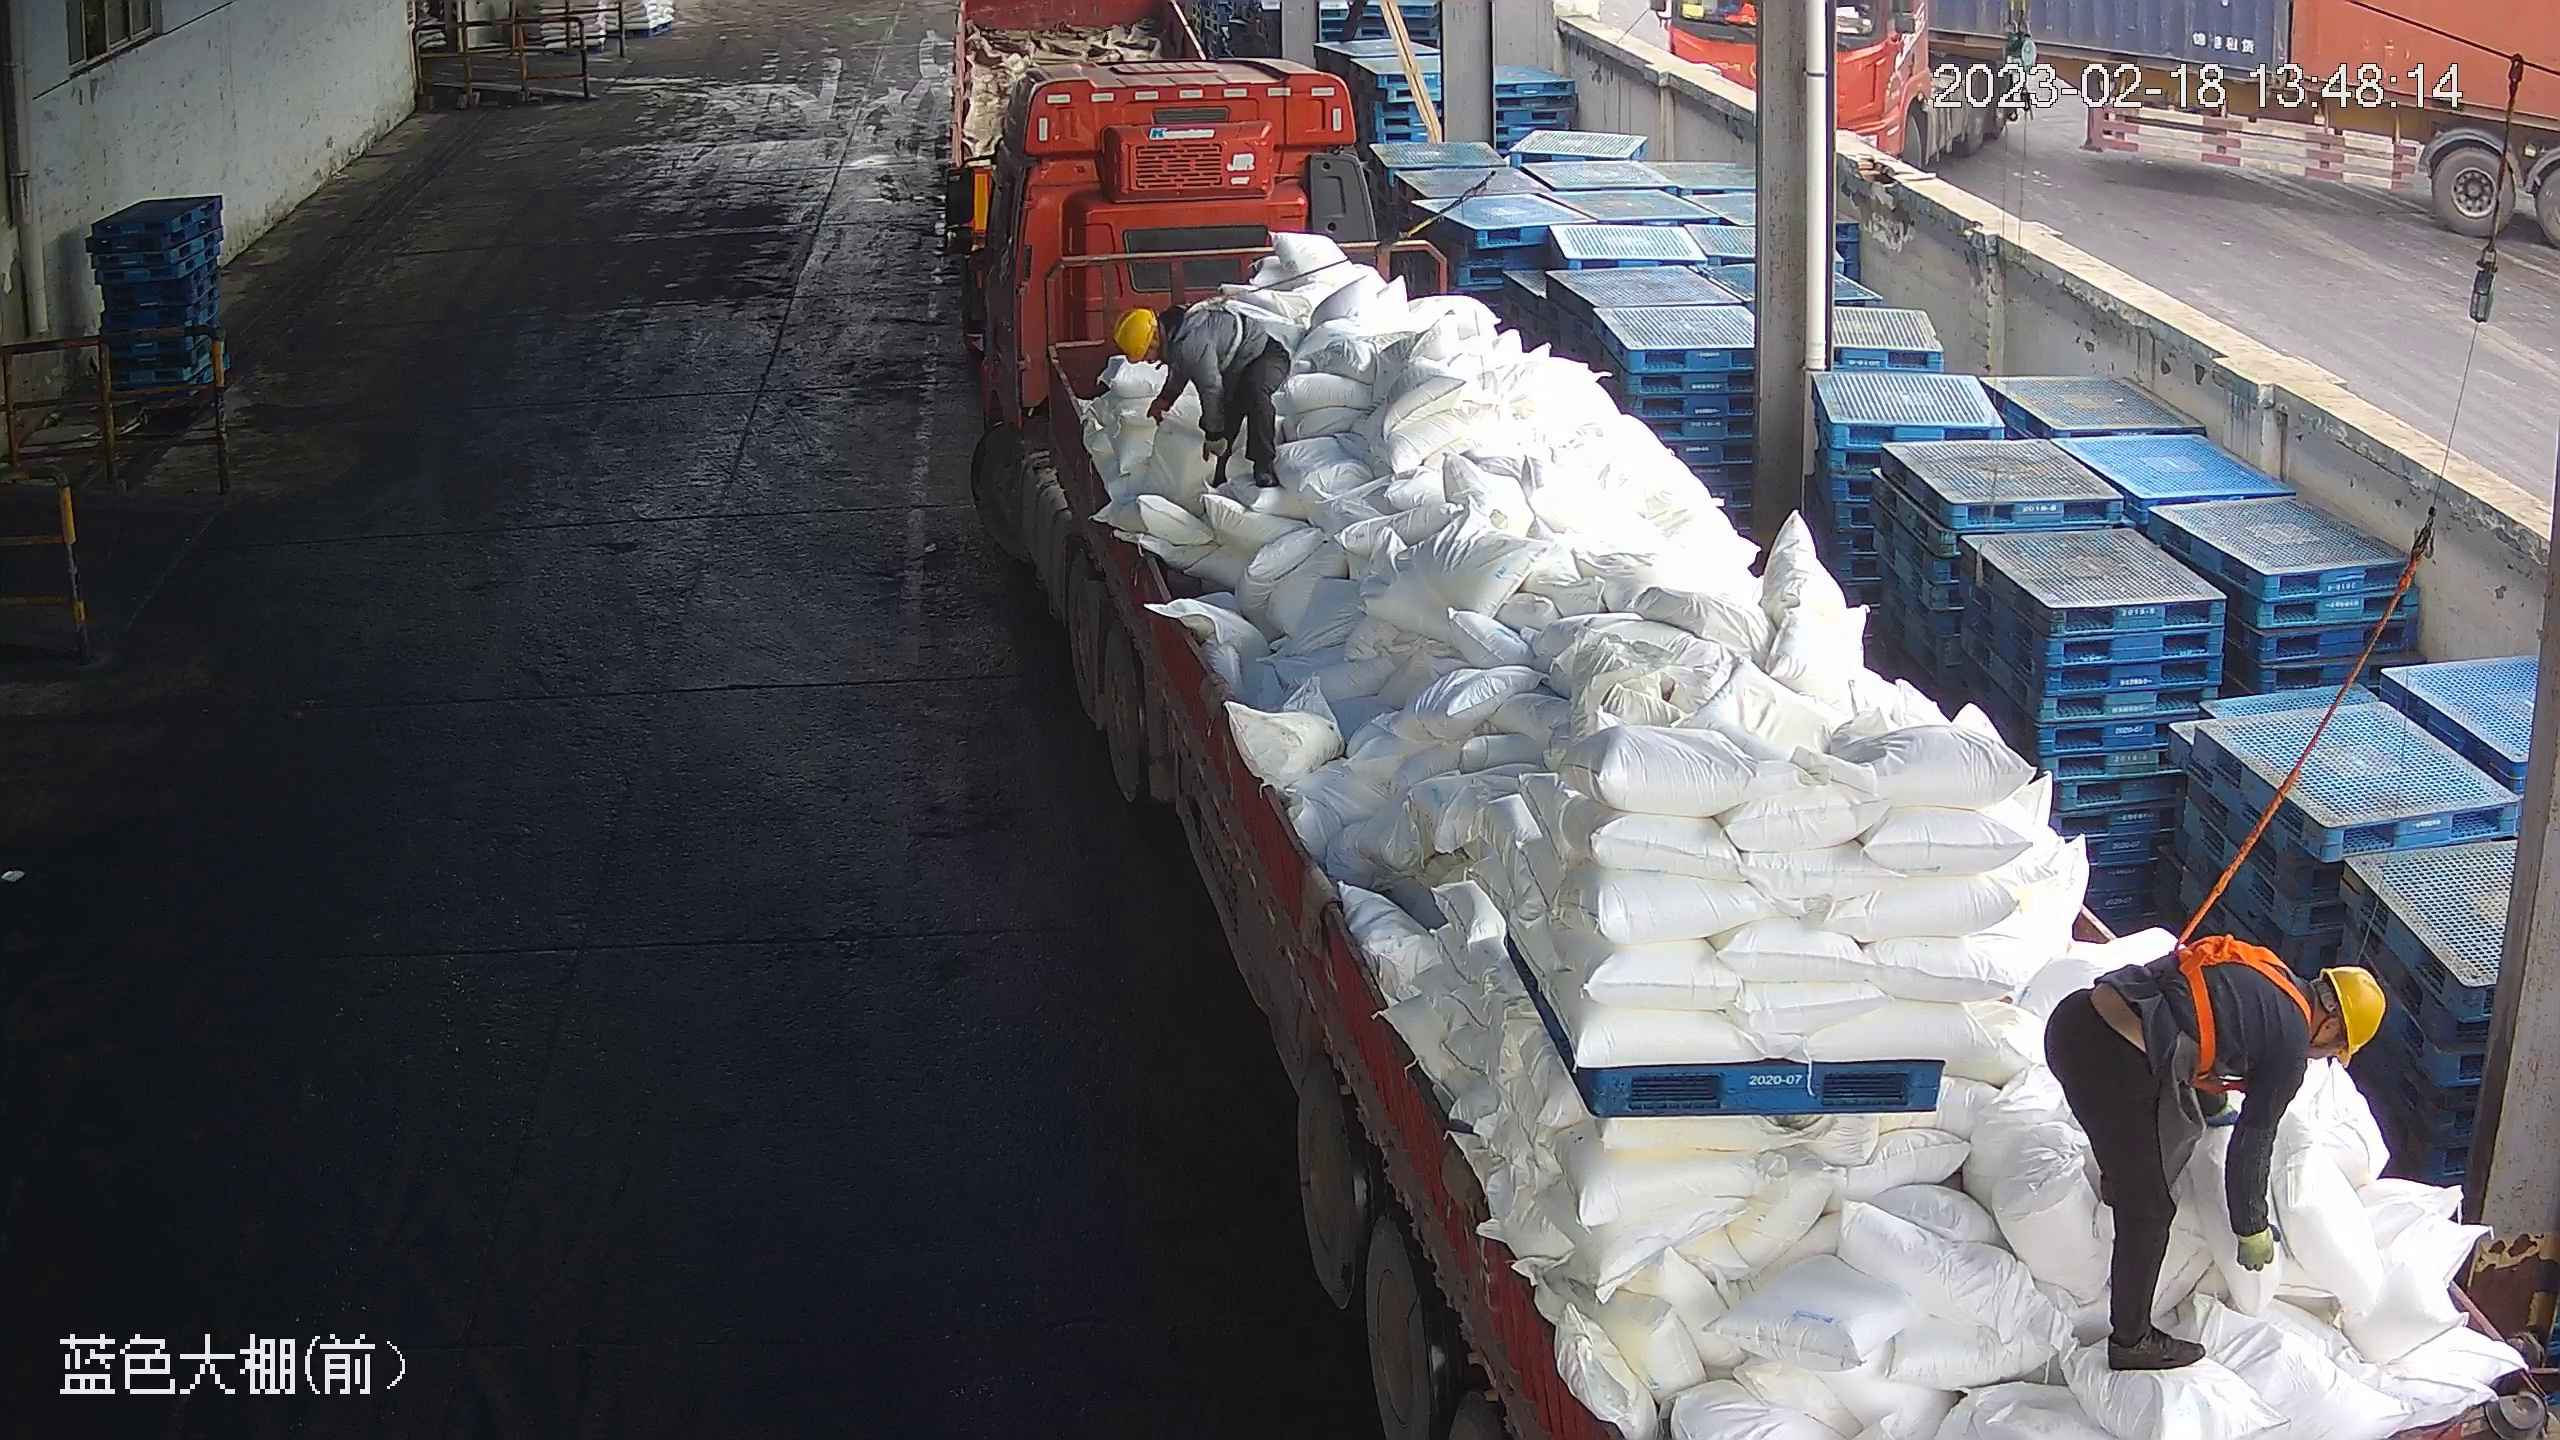belt: (2135, 900, 2311, 1095), (1161, 279, 1259, 345)
head: (2183, 935, 2387, 1125), (1111, 299, 1233, 390)
helmet: (2325, 960, 2386, 1062), (1112, 303, 1156, 362)
people: (2046, 931, 2395, 1369), (1110, 293, 1302, 503)
truck: (950, 49, 2552, 1440)
